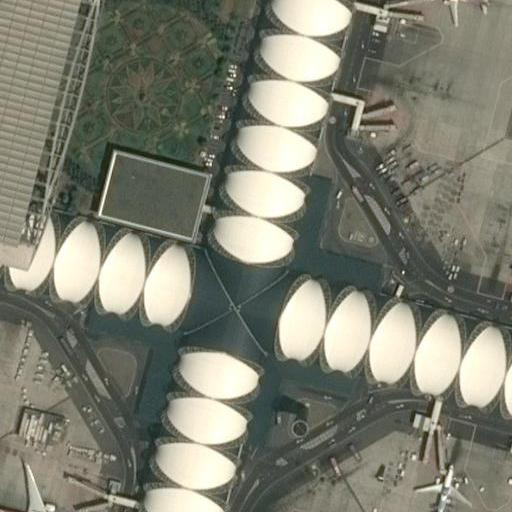Aircraft: (0, 449, 92, 512), (404, 448, 474, 512), (429, 0, 489, 22)
